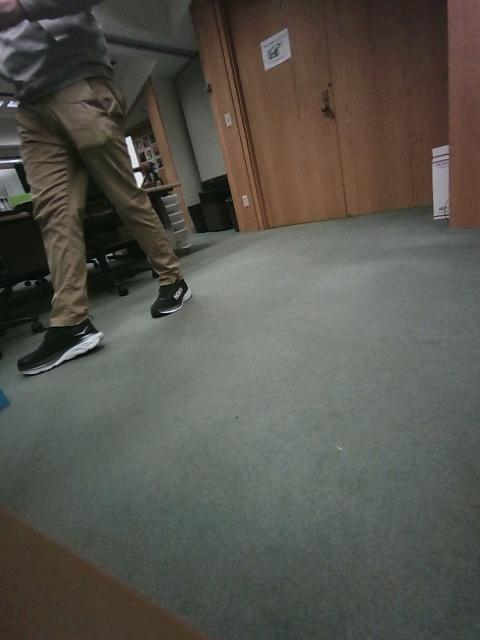block: (221, 262, 258, 286)
